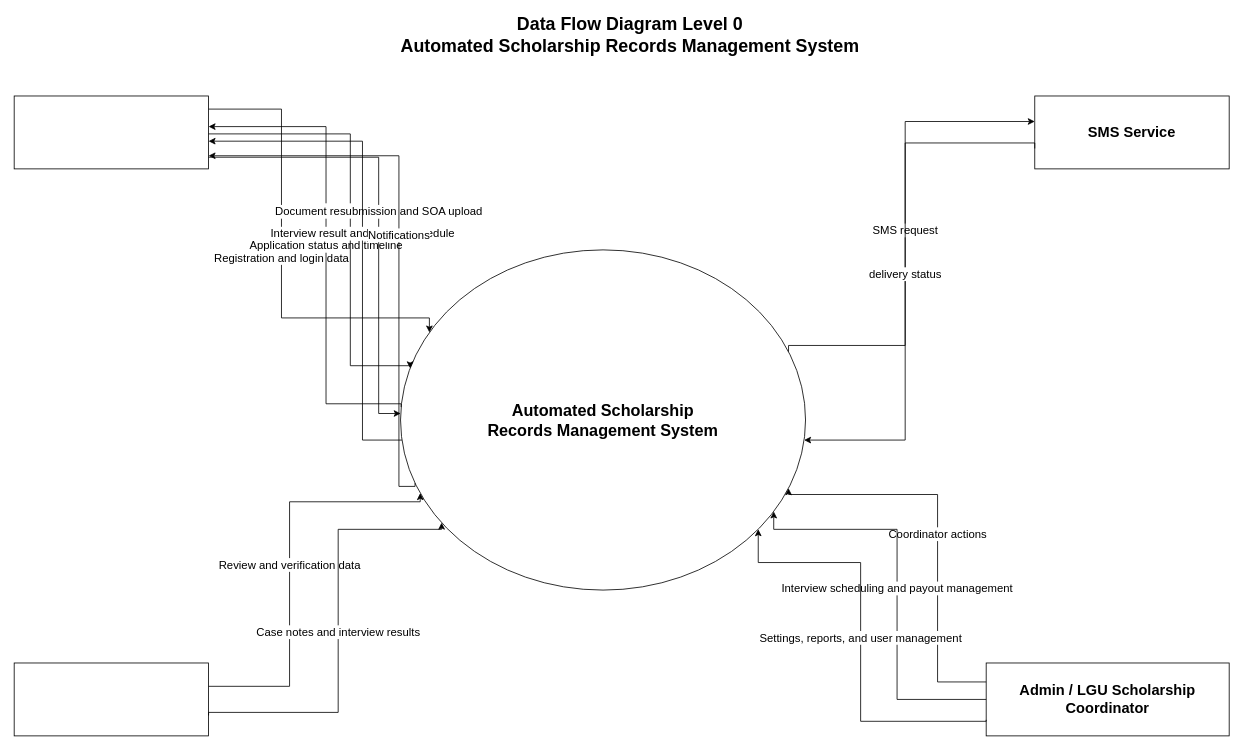
This 1243x750 diagram has some shape labels left out. Here are the shapes that lost their labels. From the top down, the centre of each, then its label:
the point at 111,132: Applicant / Student
the point at 111,699: Staff
